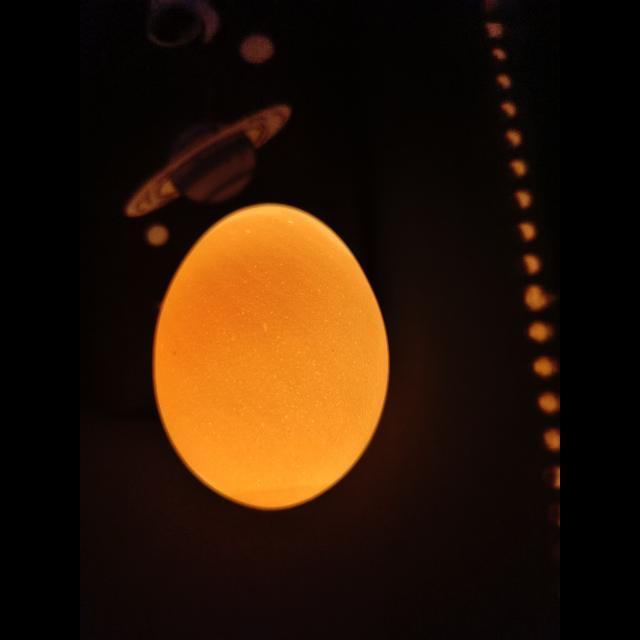AA - Premium: (154, 204, 389, 509)
